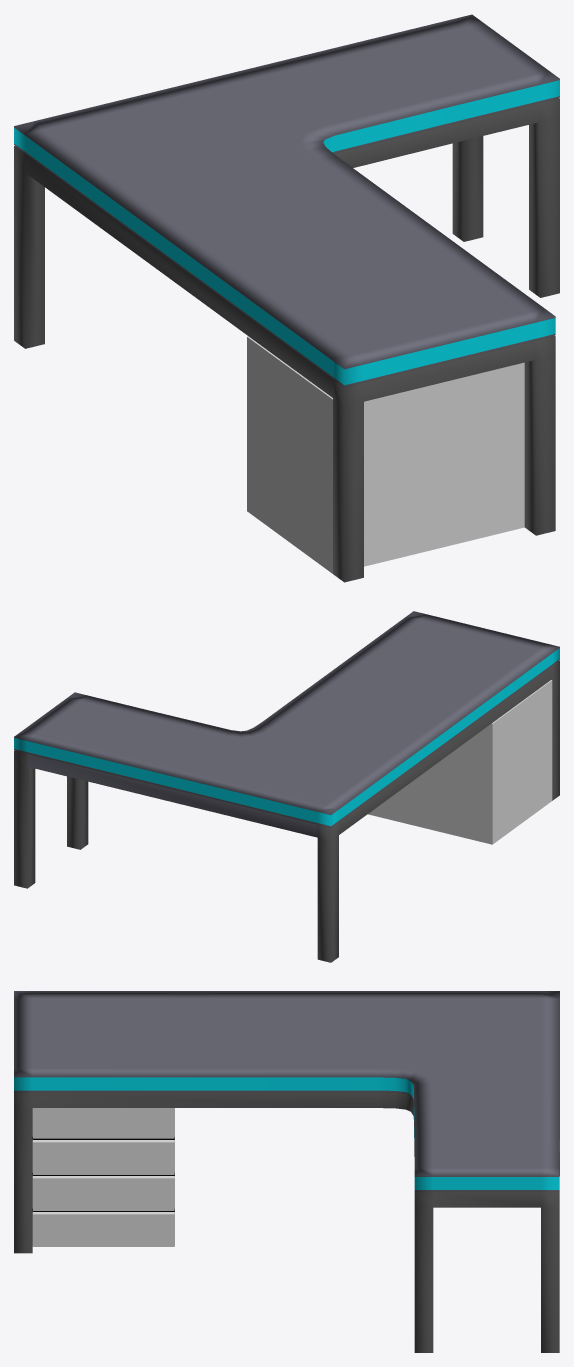
File: asztaaal.fbx
The picture shows the model from 3 angles, top to bottom: view 1: azimuth 30°, elevation 25°; view 2: azimuth 150°, elevation 25°; view 3: azimuth 270°, elevation 25°; orthographic projection. The views are drawn at different scales.
Parts seen in each view (by area): view 1: Desk; view 2: Desk; view 3: Desk.
Boxes of the visible parts, x1,y1,x2,y2 form: Desk: (14, 14, 559, 582); Desk: (14, 611, 559, 962); Desk: (14, 991, 559, 1352).
Bounding box in the file's own units: 894 × 400 × 1117.
